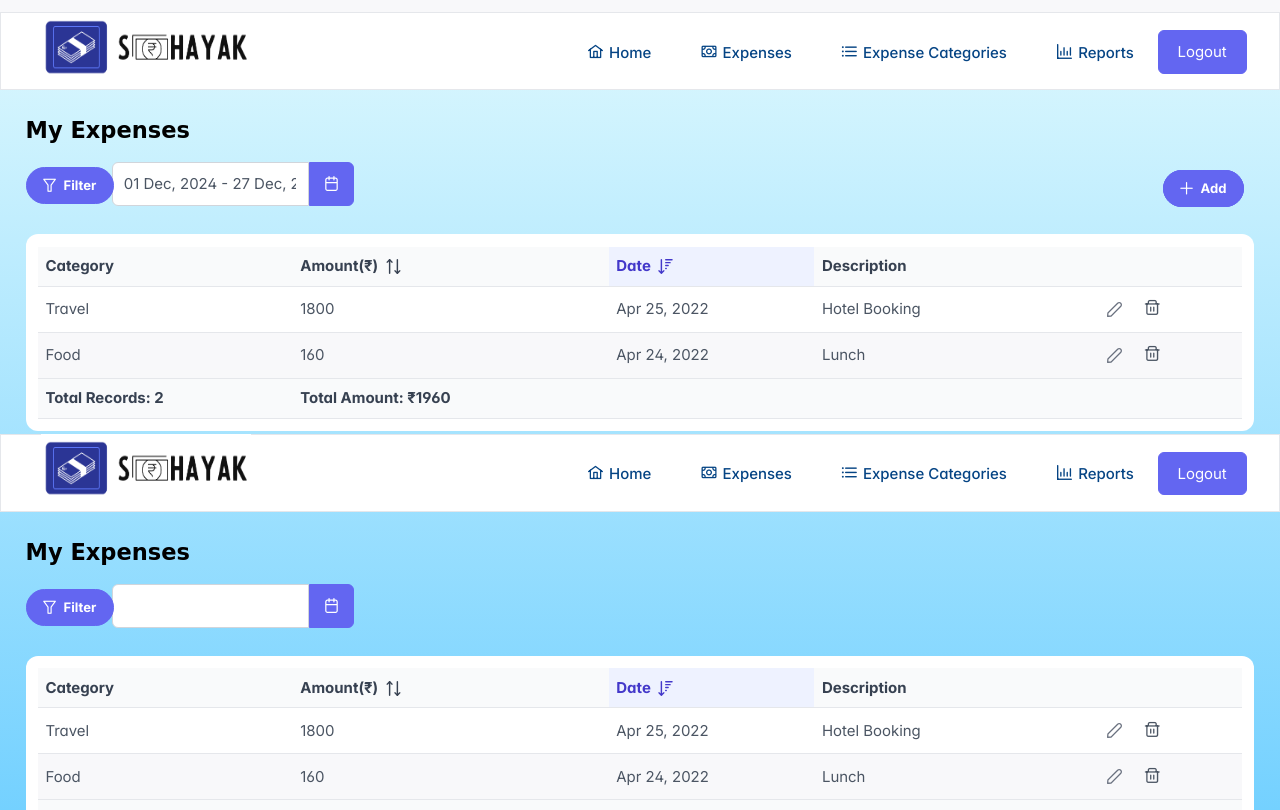
Test: Expenses listing component › each row should have a edit button and clicking on it should open the table-row in editable mode
What coordinates should you click on to do the following:
click the 3rd button named "Edit Row"
I would click on:
 (1115, 731)
Its box is [1100,716,1130,746].
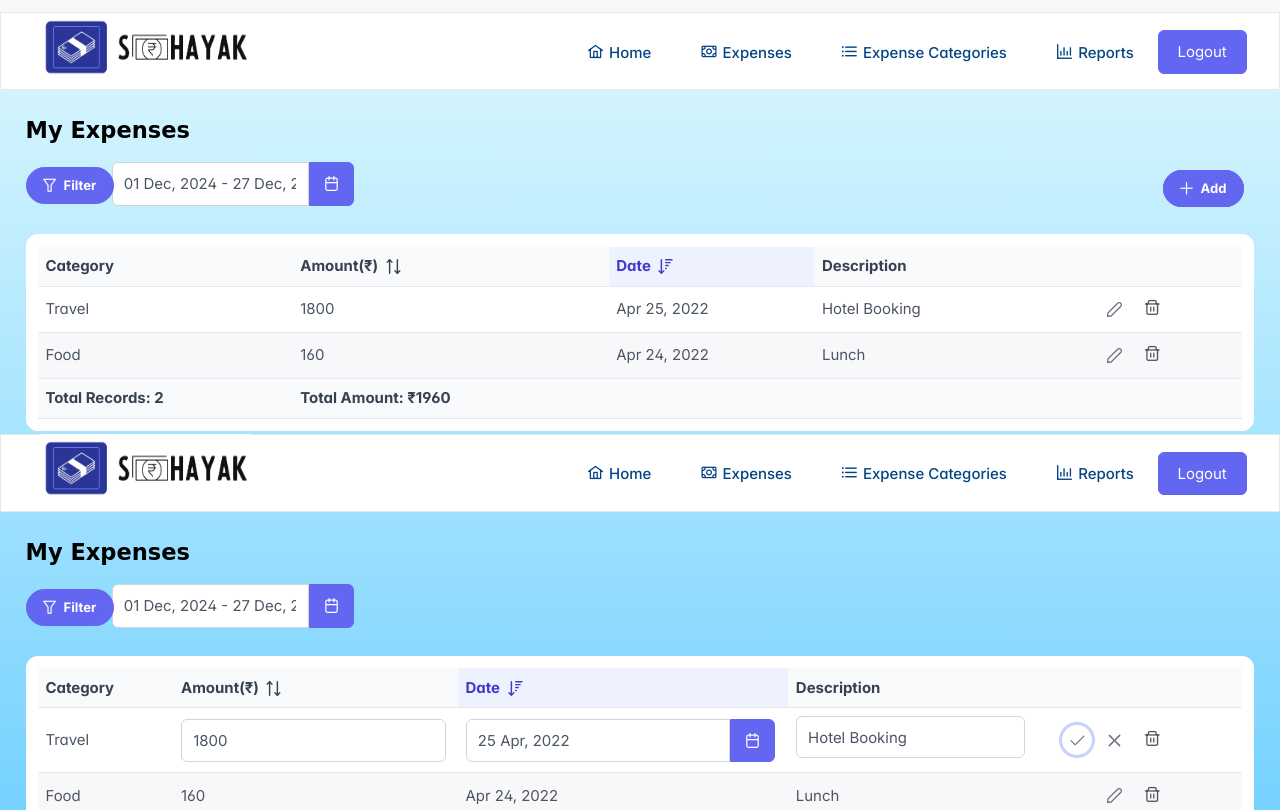
Expected: the text box with test id "desc-editor" is shown, [796,716,1025,758]
Expected: the number field with test id "amount-editor" is shown, [181,719,446,762]
Expected: the button with test id "date-editor" is shown, [466,719,775,762]
